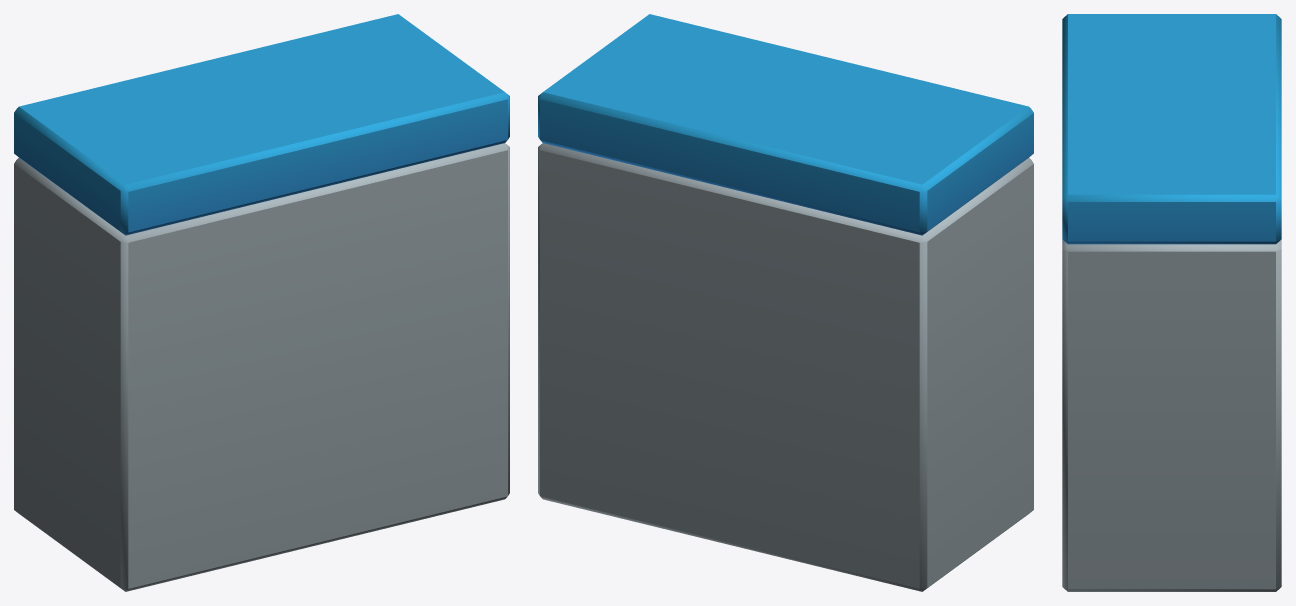
The model's file is kaykit_platform_4x2x4_blue.glb.
The picture shows the model from 3 angles, left to right: view 1: azimuth 30°, elevation 25°; view 2: azimuth 150°, elevation 25°; view 3: azimuth 270°, elevation 25°; orthographic projection. The views are drawn at different scales.
Parts seen in each view (by area): view 1: platform_4x2x4_blue_visual; view 2: platform_4x2x4_blue_visual; view 3: platform_4x2x4_blue_visual.
Boxes of the visible parts, x1=… form: platform_4x2x4_blue_visual: x1=14, y1=14, x2=509, y2=591; platform_4x2x4_blue_visual: x1=538, y1=14, x2=1033, y2=591; platform_4x2x4_blue_visual: x1=1062, y1=14, x2=1281, y2=591.
Size of what is drawn, in the model's own units: 4 by 4 by 2.
1 material, 1 textured.
